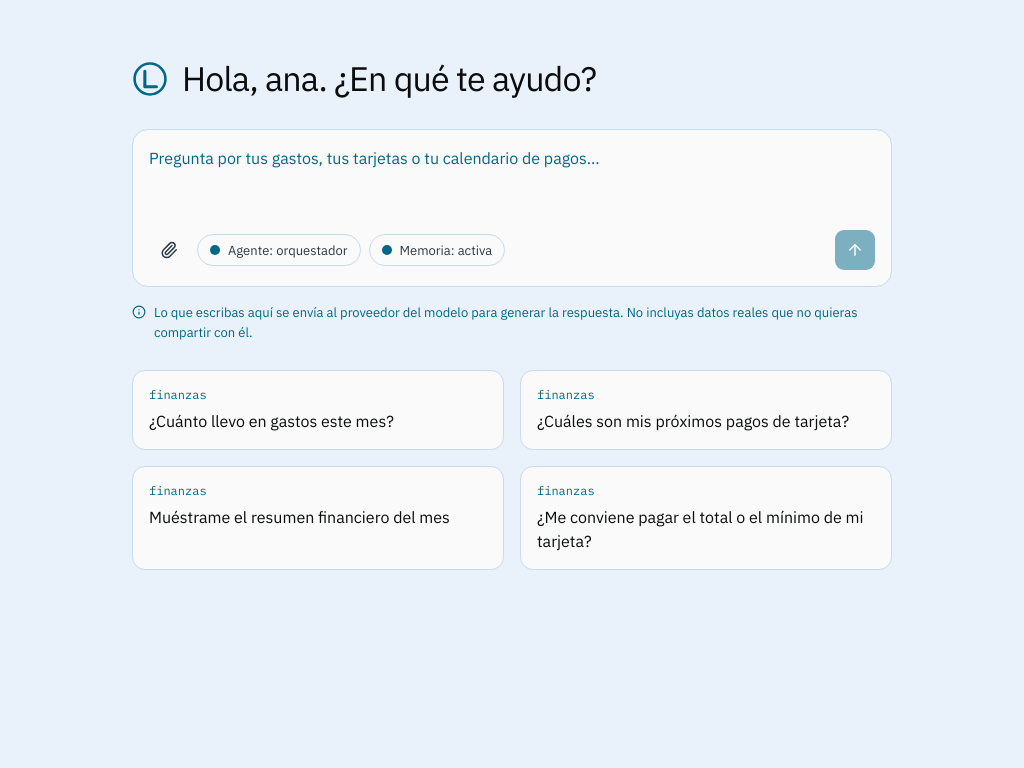
ChatPage · eventos A2A y pasos › muestra el separador A2A y los pasos con check cuando el agente delega
Replace the text in the text box named "Mensaje para Lara" with "¿Puedo levantar una aclaración?" at [512, 182], box [149,146,875,218]
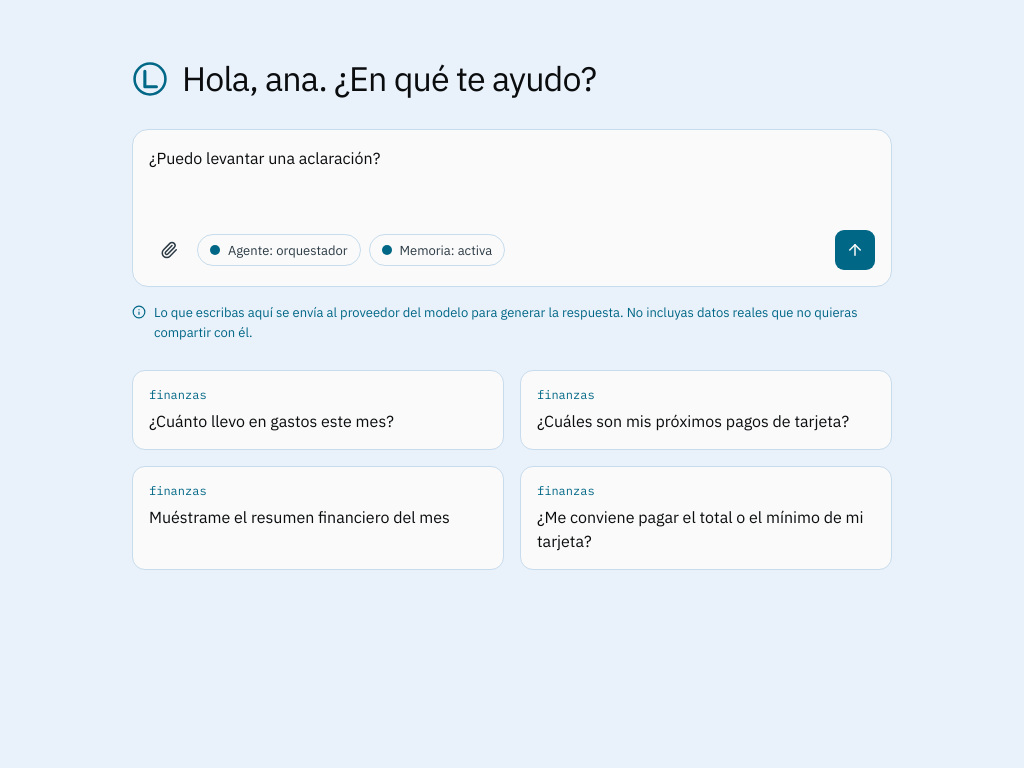
Click the button named "Enviar" at [855, 250], box [835,230,875,270]
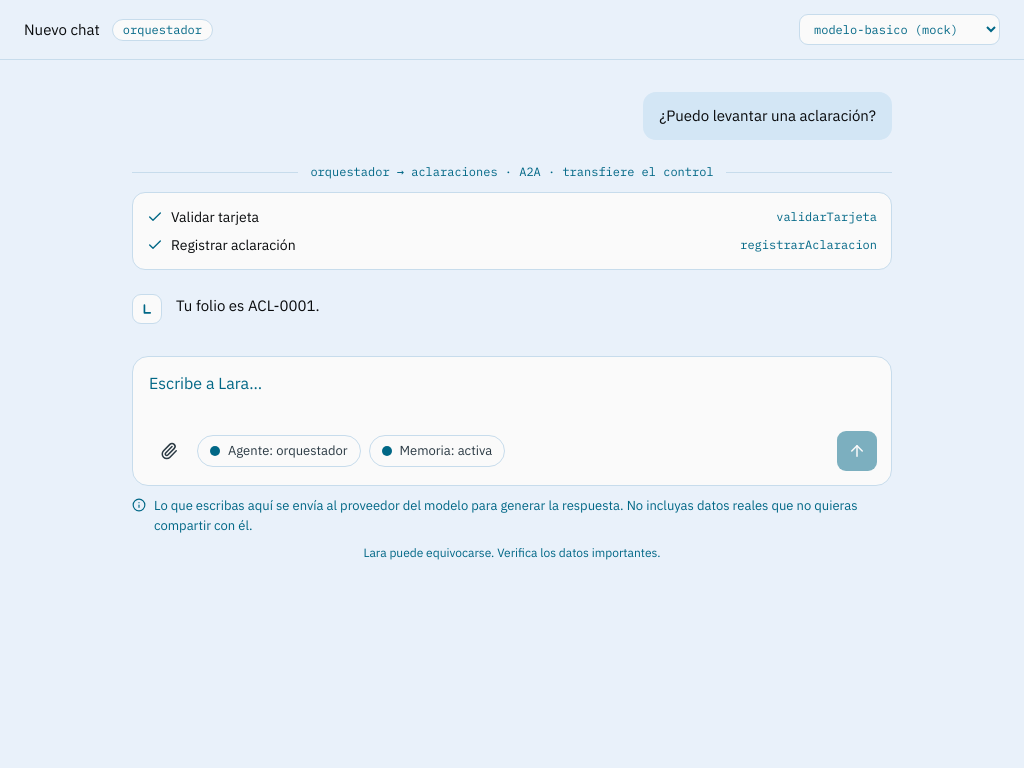
Now the text "orquestador → aclaraciones · A2A · transfiere el control" is shown, box [310,164,714,180]
Now the text "Validar tarjeta" is shown, box [147,207,259,227]
Now the text "Registrar aclaración" is shown, box [147,235,296,255]
